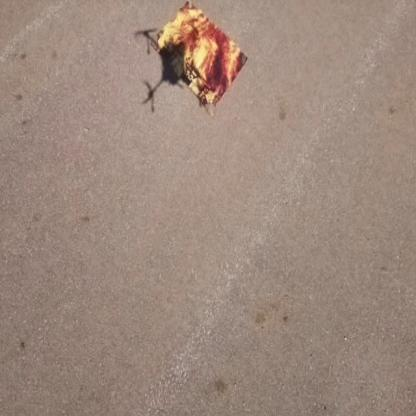fire-poster: (154, 0, 249, 116)
